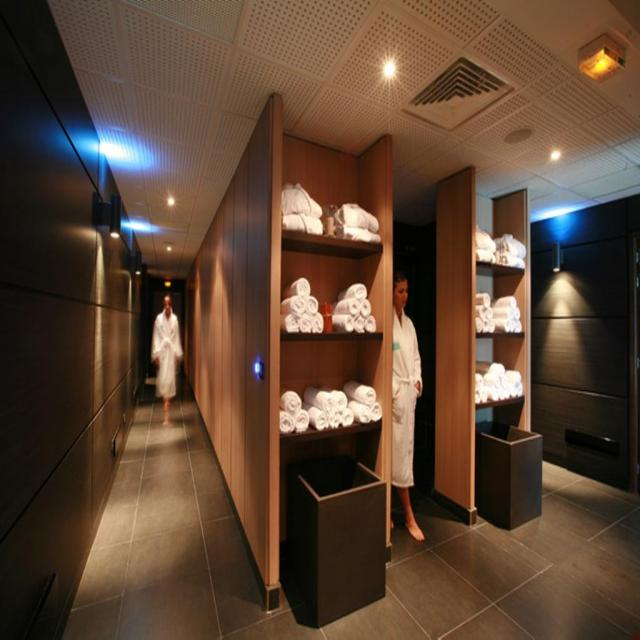nomask: (394, 280, 408, 306), (163, 299, 171, 313)
